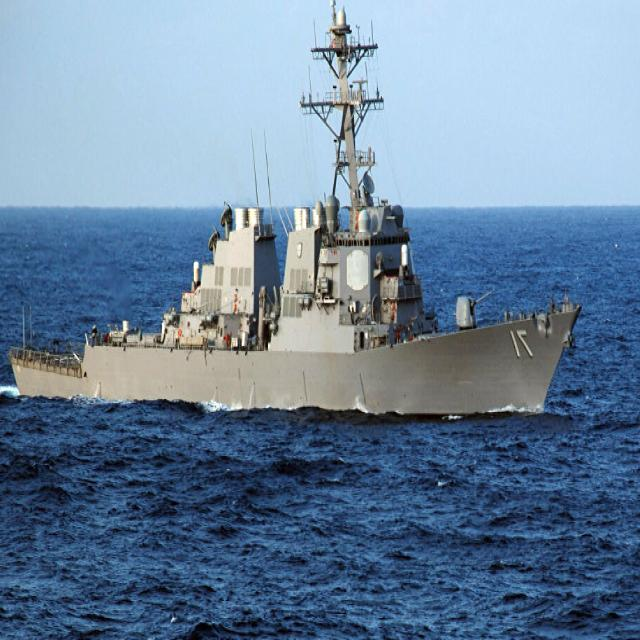navalvessels: (9, 2, 596, 399)
